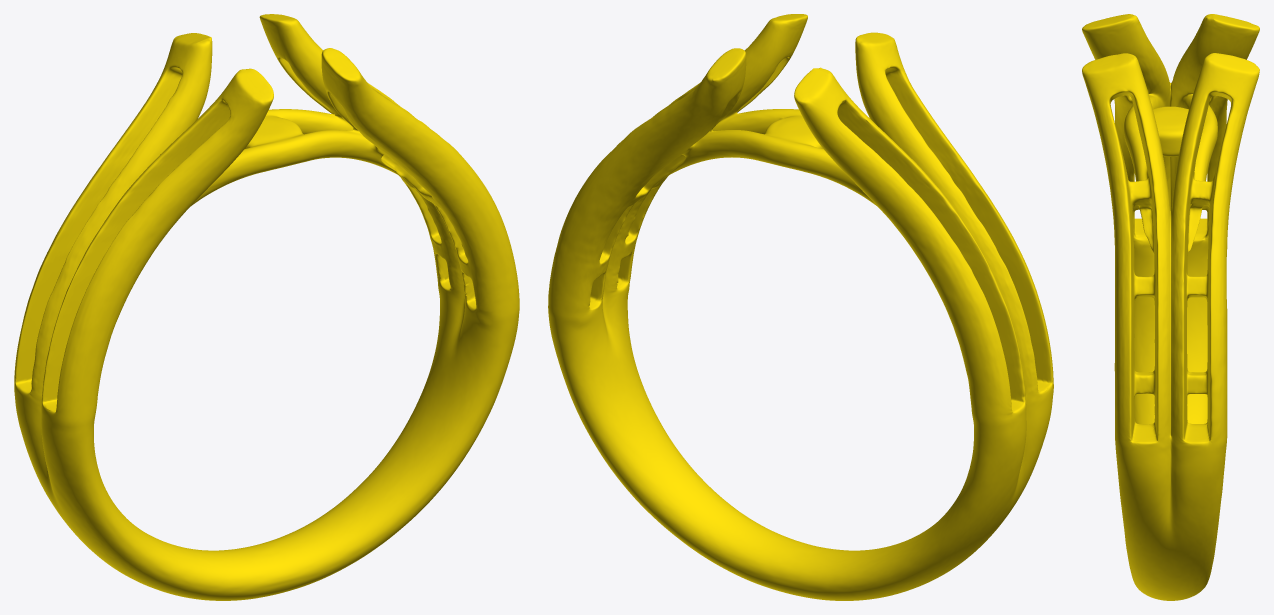
File: Shank_Two row split_Channel_A_Single Halo_Band.glb
The picture shows the model from 3 angles, left to right: view 1: azimuth 30°, elevation 25°; view 2: azimuth 150°, elevation 25°; view 3: azimuth 270°, elevation 25°; orthographic projection.
Size of the model in its own units: 0.0213 by 0.0238 by 0.0071.
